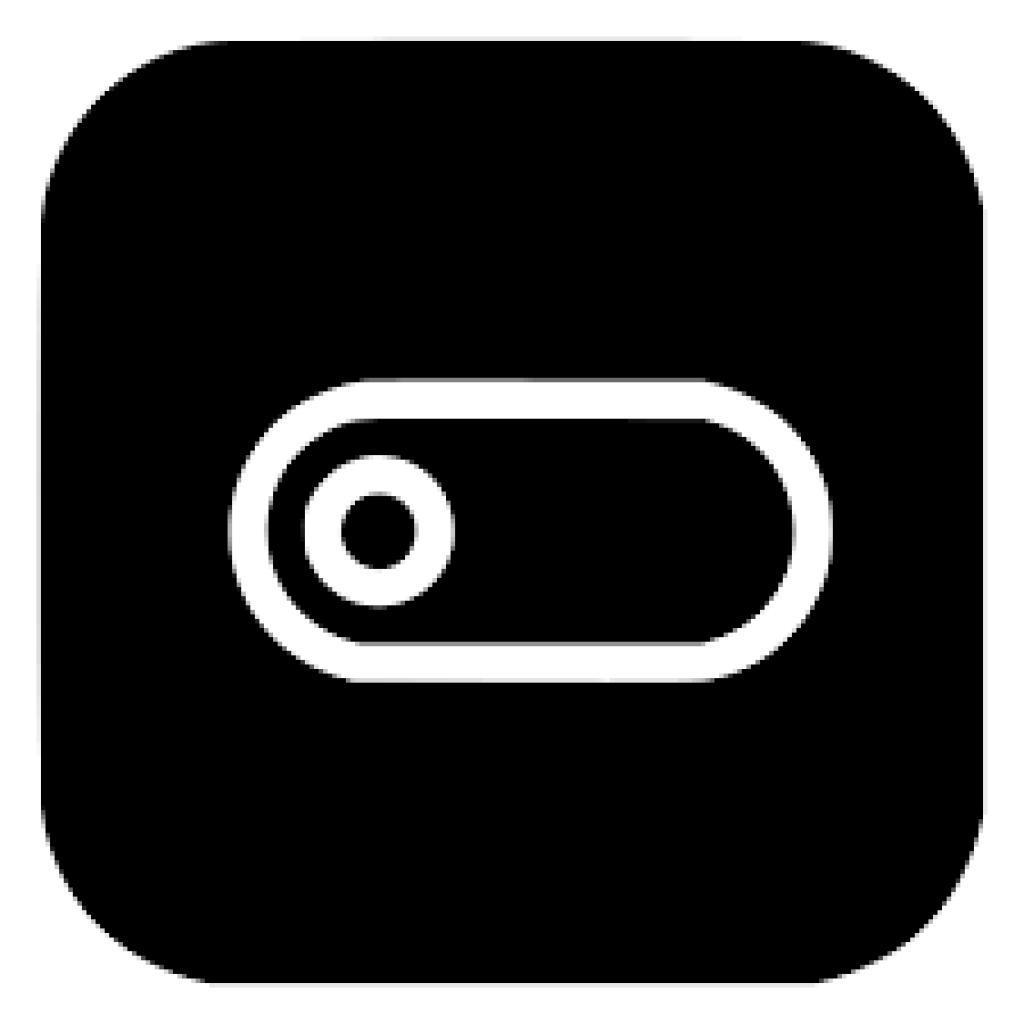switch: (226, 379, 836, 679)
